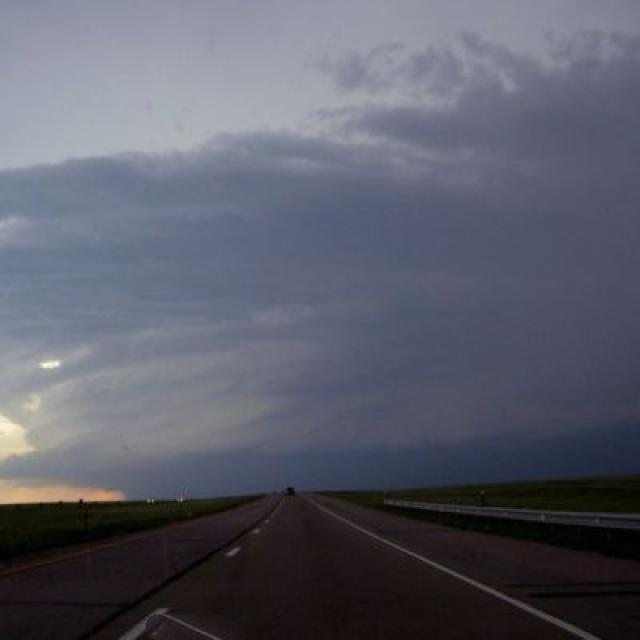Cb: (1, 34, 640, 453)
